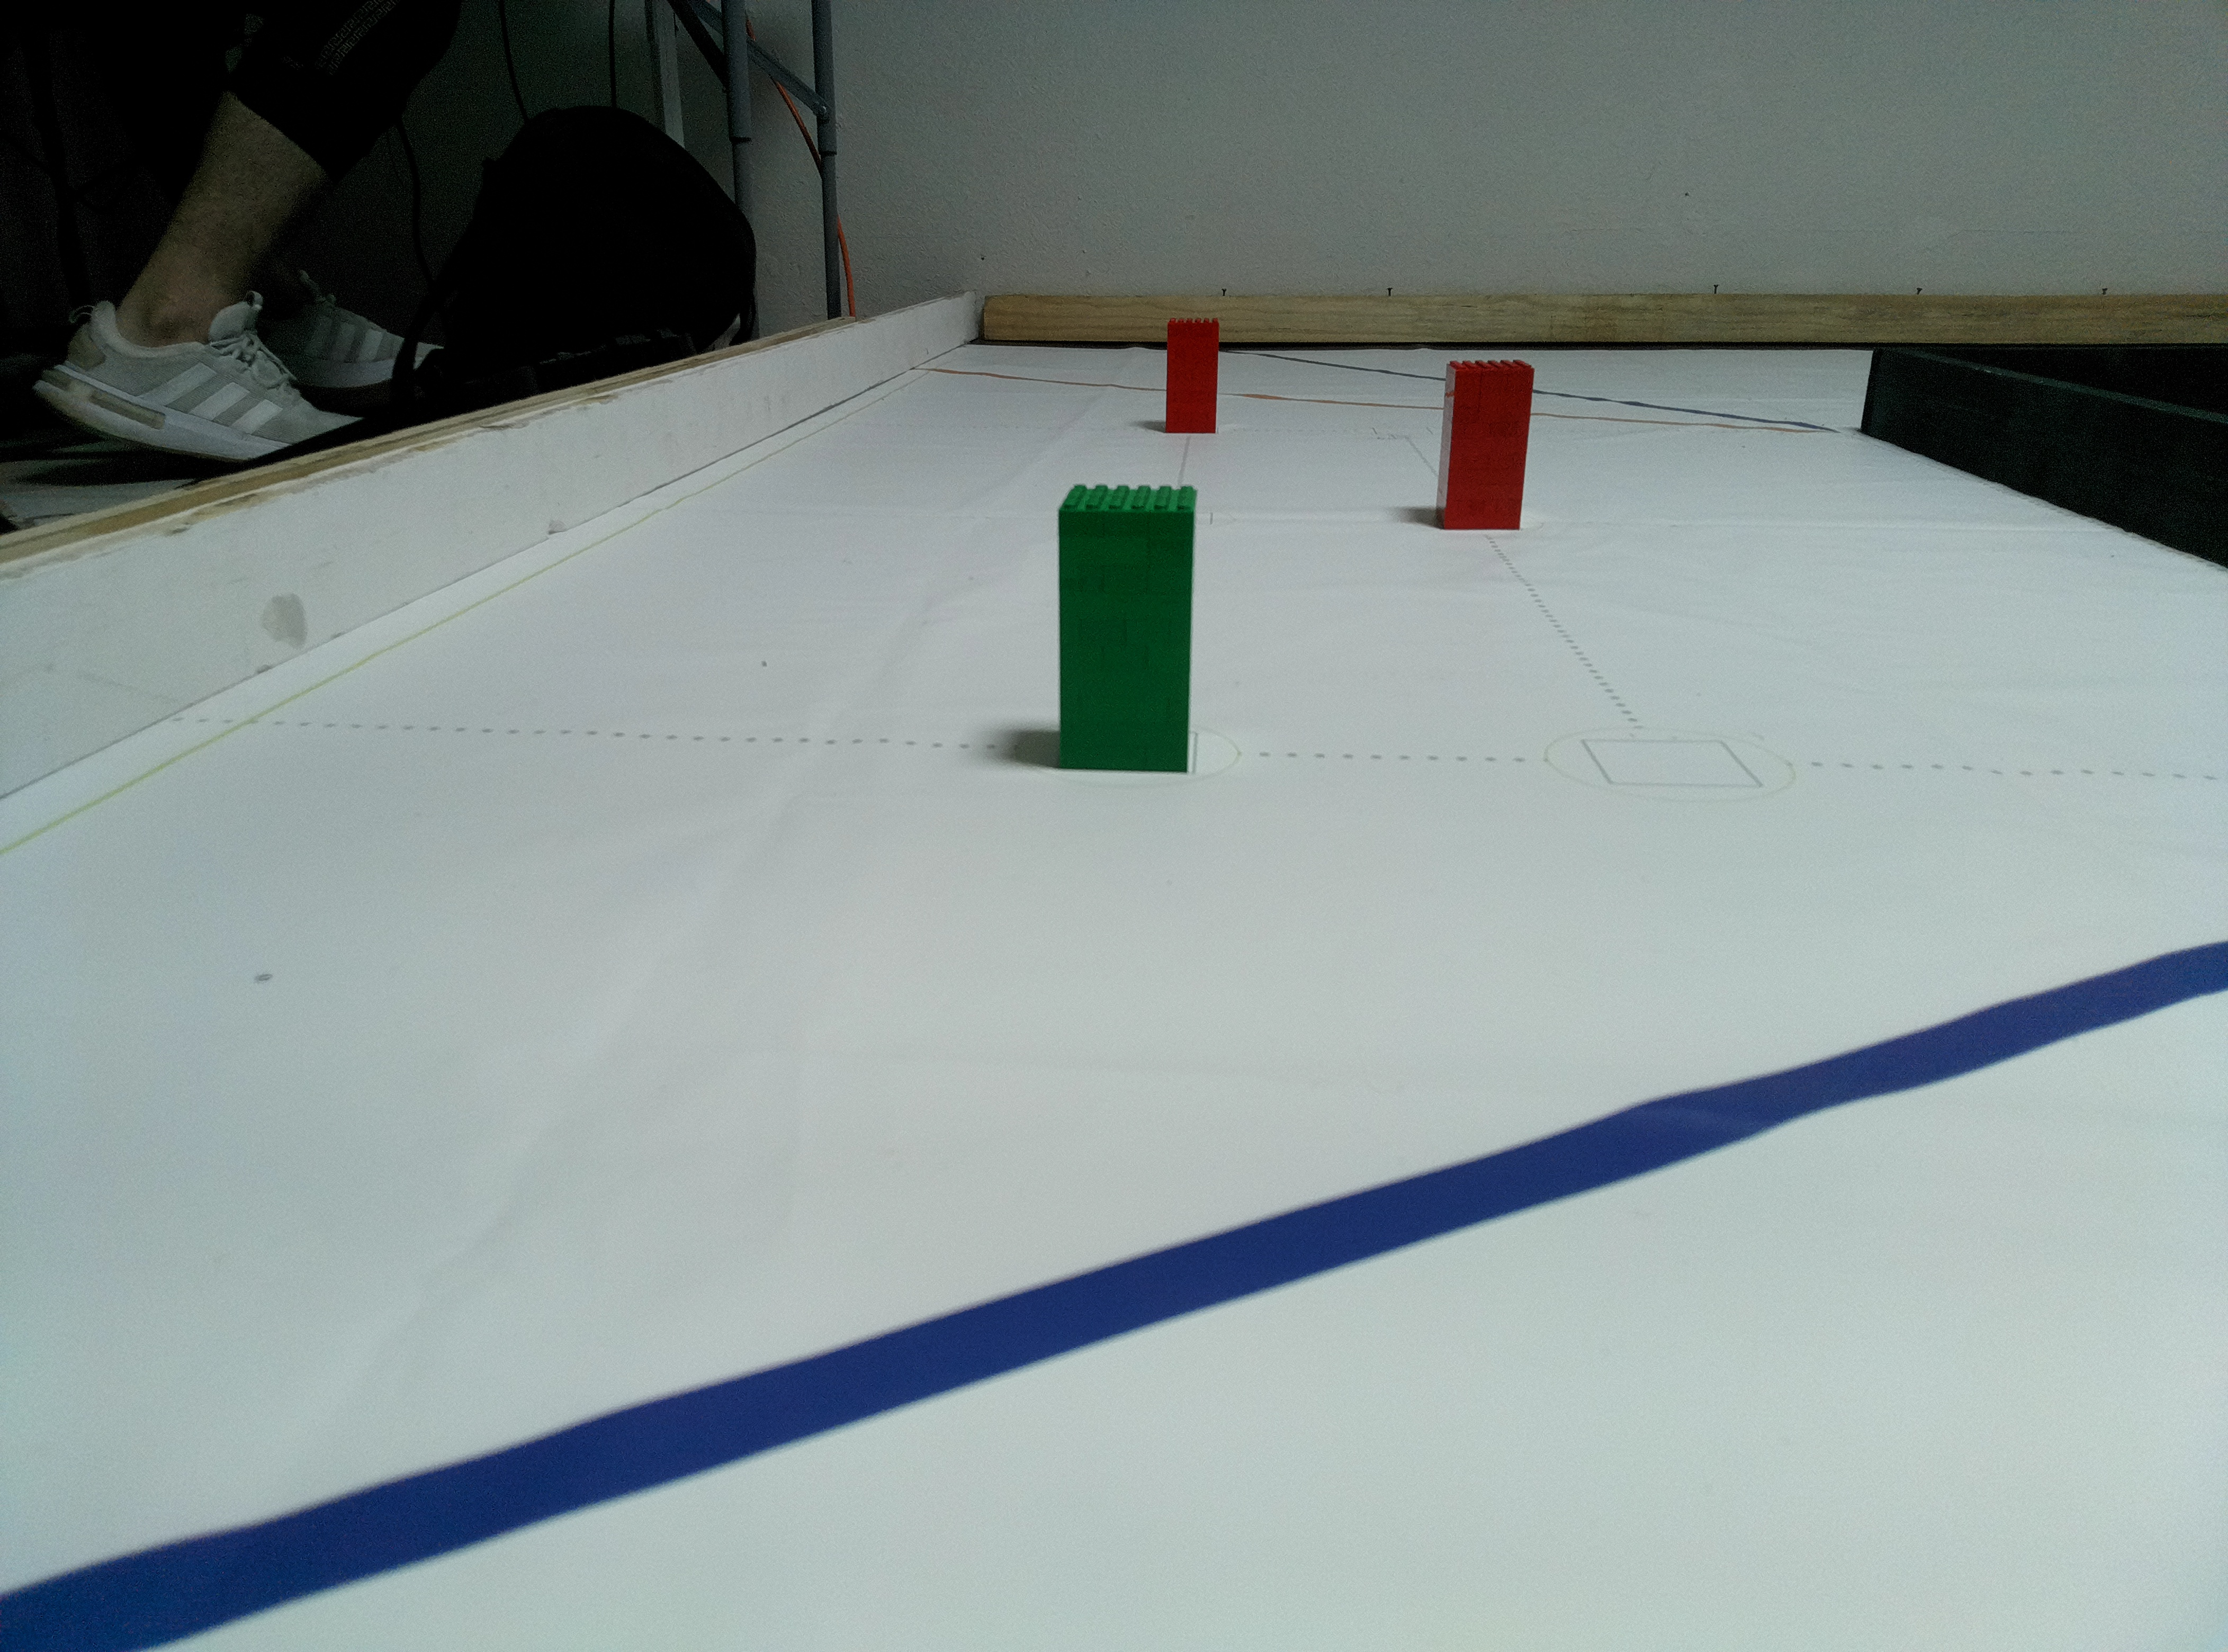greenbox: (1053, 481, 1197, 777)
redbox: (1433, 359, 1536, 531), (1163, 316, 1222, 436)
